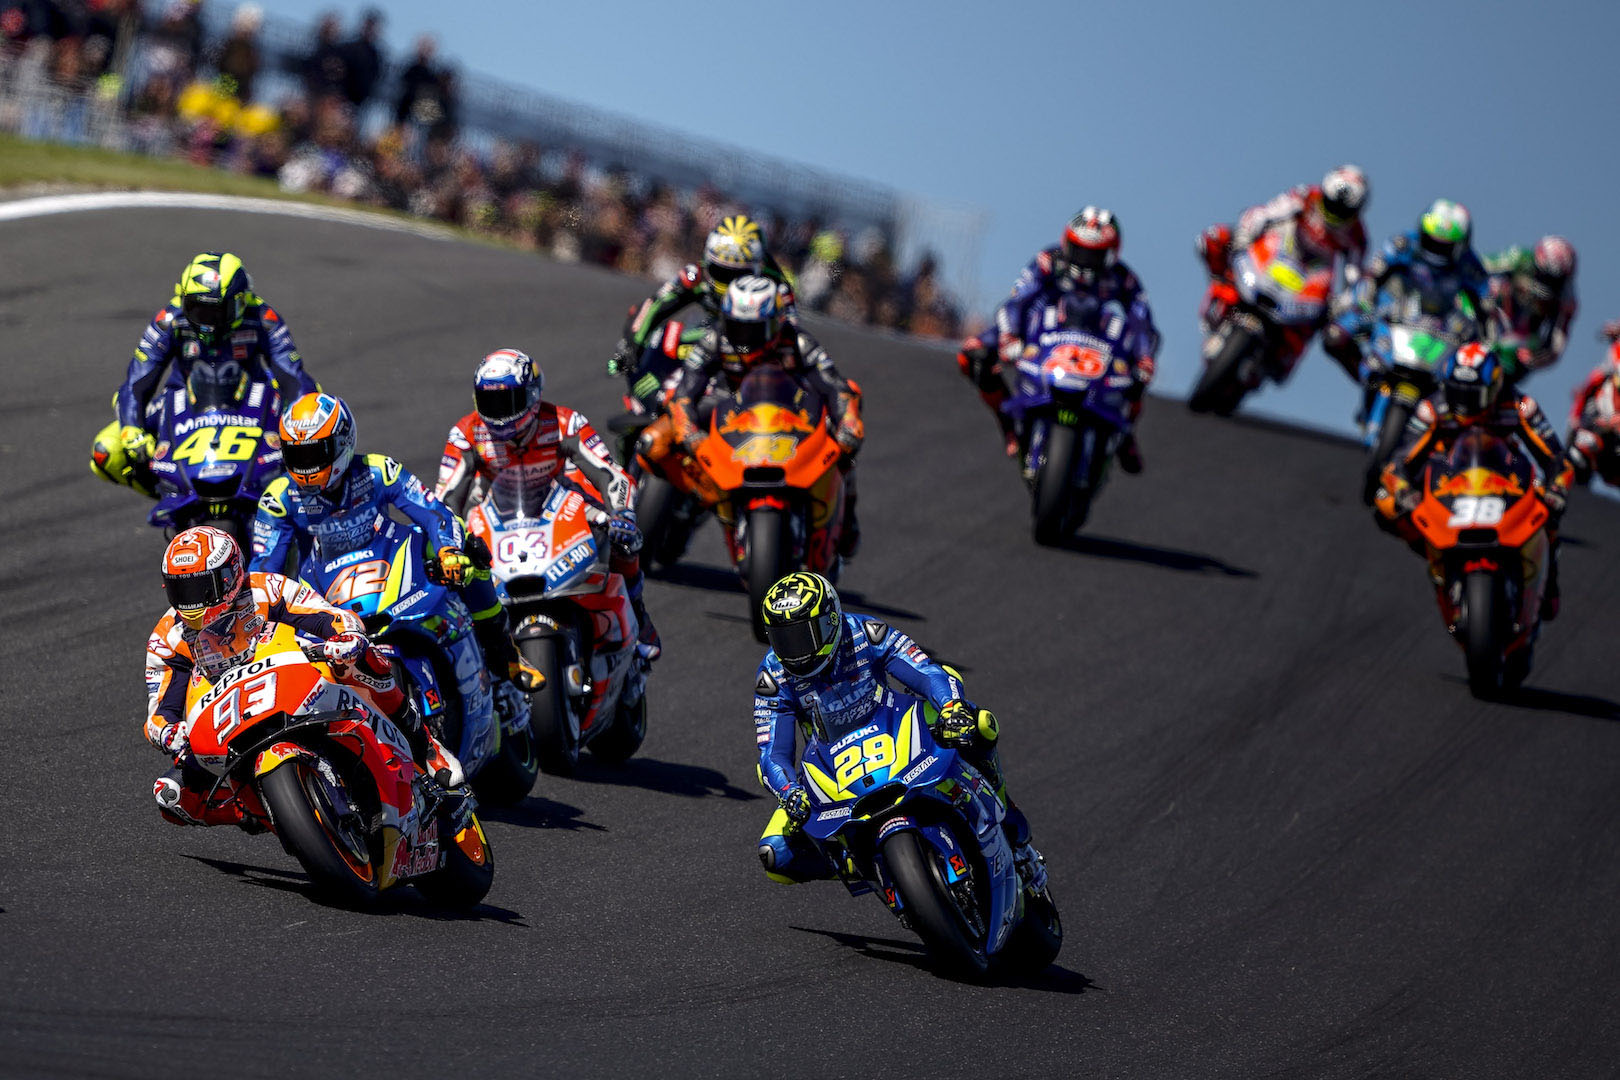helmet: (736, 561, 873, 693), (145, 517, 255, 640), (163, 231, 261, 357), (459, 326, 549, 455), (272, 376, 365, 493), (1042, 179, 1125, 286), (719, 262, 798, 374), (1418, 324, 1512, 412), (1312, 139, 1380, 233), (1418, 179, 1481, 266)
